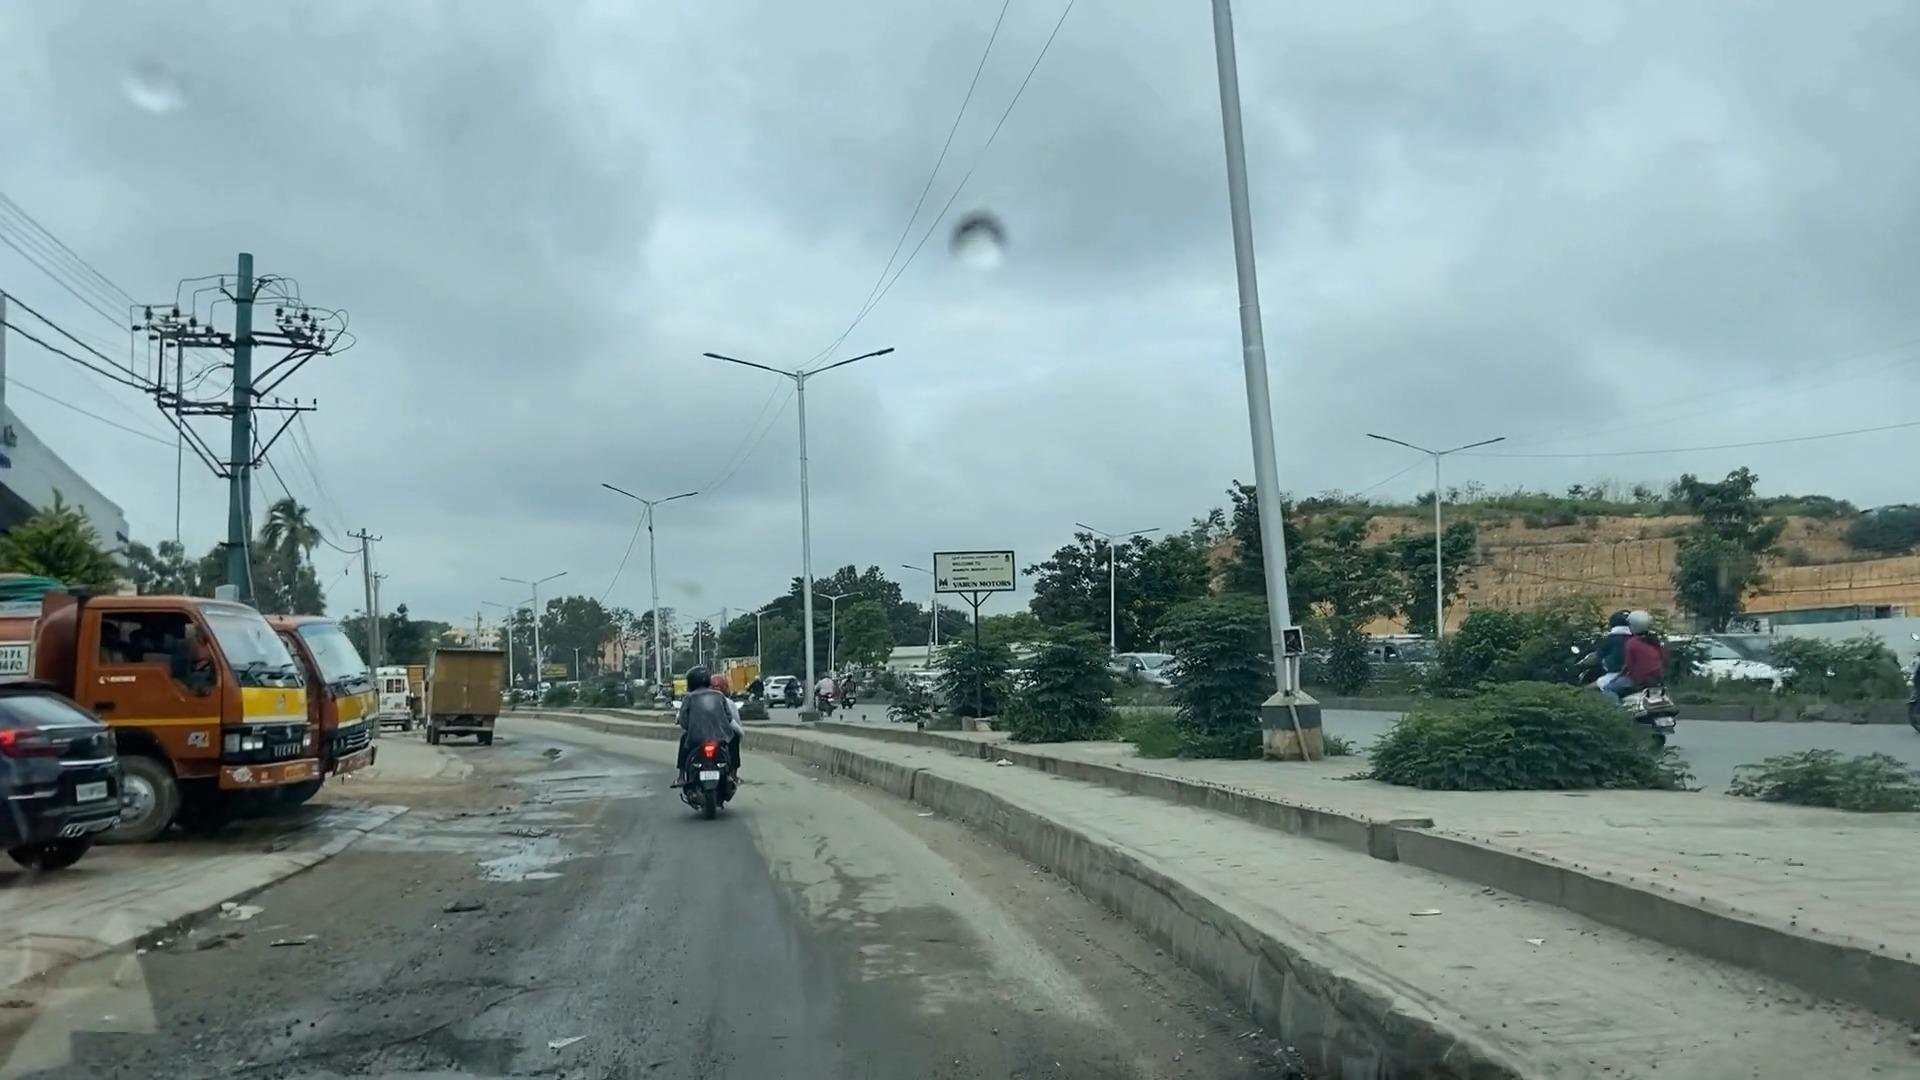RoadDamages: (210, 1004, 546, 1080), (363, 886, 543, 1009)
